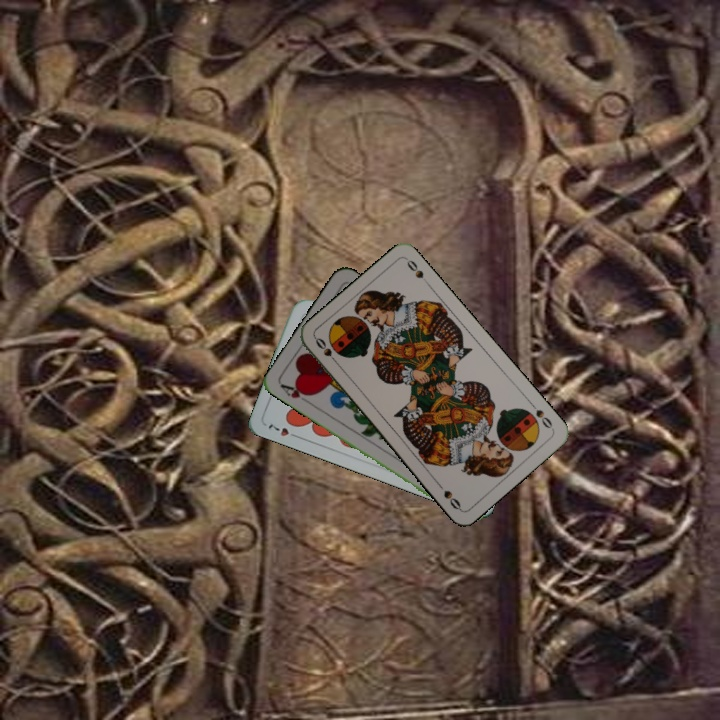H7: (264, 418, 302, 441)
HA: (276, 380, 314, 406)
SO: (311, 333, 342, 368), (526, 398, 556, 432)
